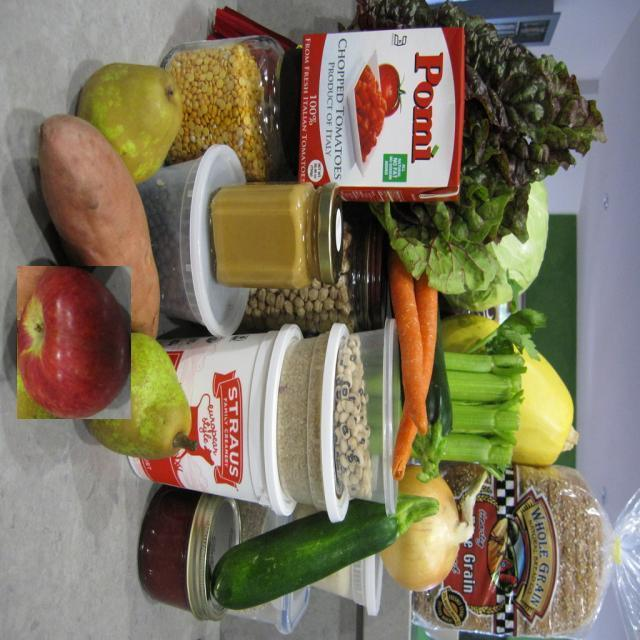Apple: (17, 266, 131, 419)
